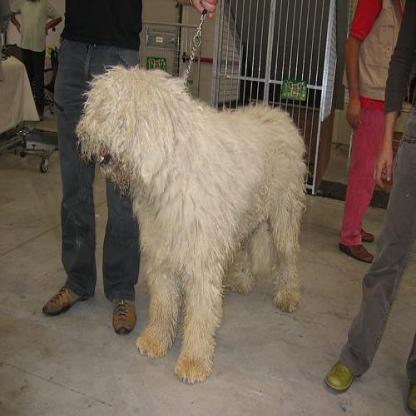komondor: (76, 59, 310, 379)
